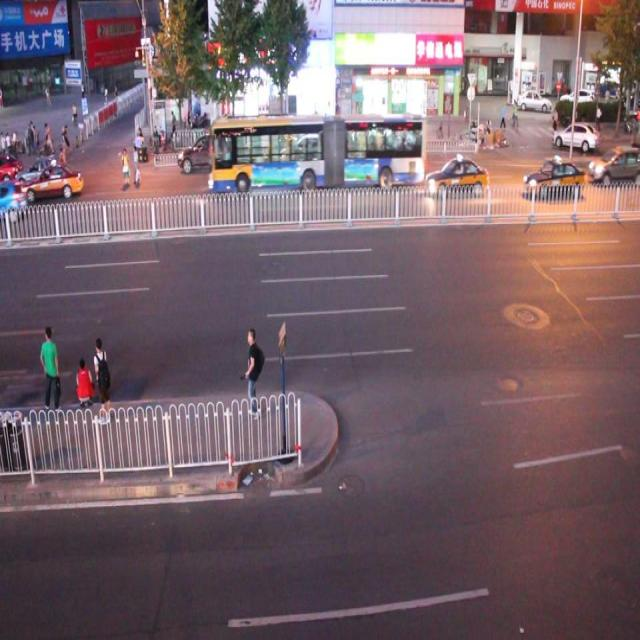car: (426, 157, 487, 196), (523, 158, 583, 196), (587, 143, 640, 186), (22, 166, 82, 199), (177, 134, 228, 172), (16, 155, 64, 186), (282, 134, 326, 167), (0, 153, 22, 185)
van: (209, 119, 425, 190)
